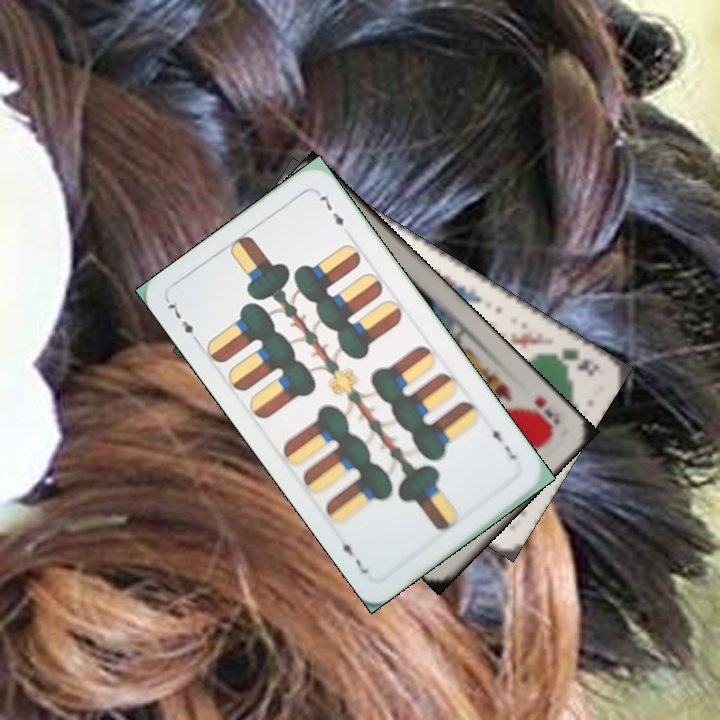E7: (163, 296, 203, 348), (487, 420, 519, 463)
GK: (543, 344, 602, 380)
HK: (523, 392, 562, 433)
